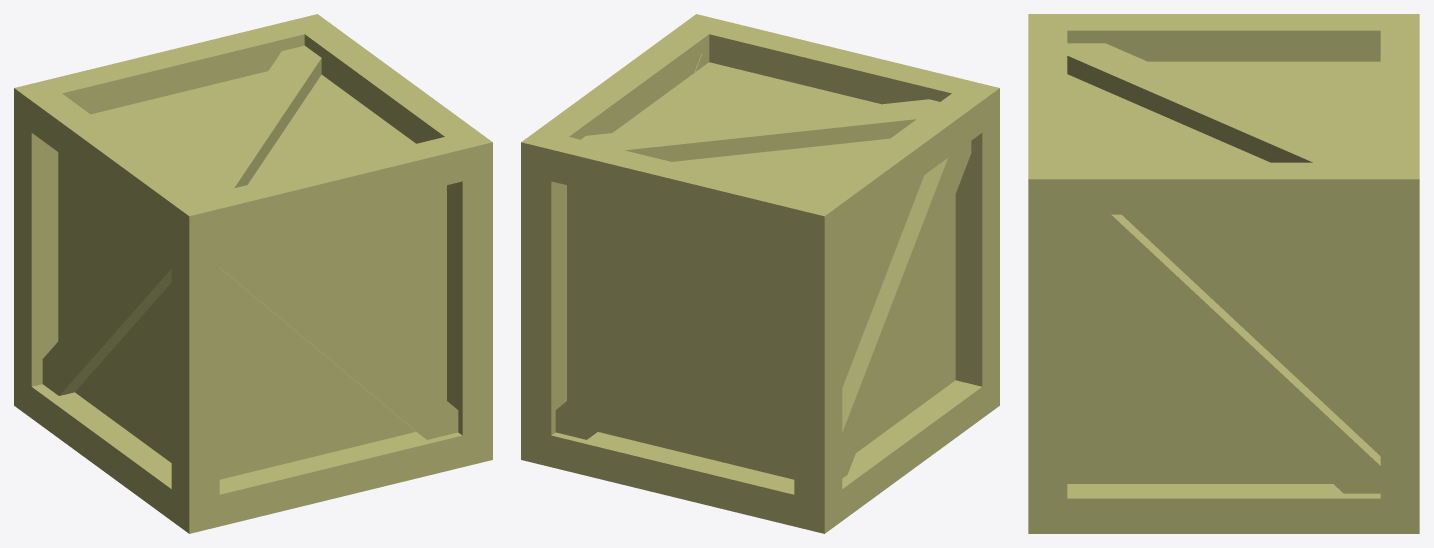
The model's file is Drawer.fbx.
The picture shows the model from 3 angles, left to right: view 1: azimuth 30°, elevation 25°; view 2: azimuth 150°, elevation 25°; view 3: azimuth 270°, elevation 25°; orthographic projection. The views are drawn at different scales.
Visible parts, largest first — view 1: pCube6; view 2: pCube6; view 3: pCube6.
Boxes of the visible parts, x1=… form: pCube6: x1=14, y1=14, x2=492, y2=533; pCube6: x1=521, y1=14, x2=999, y2=533; pCube6: x1=1028, y1=14, x2=1419, y2=533.
Size of the model in its own units: 80.7 by 80.7 by 80.7.
